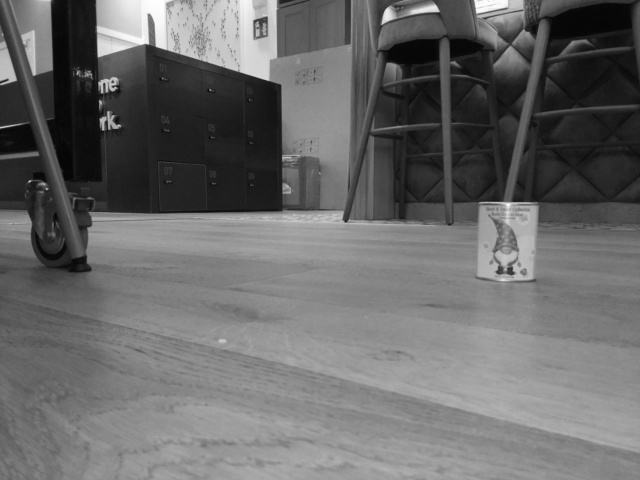gnome: (484, 213, 529, 278)
